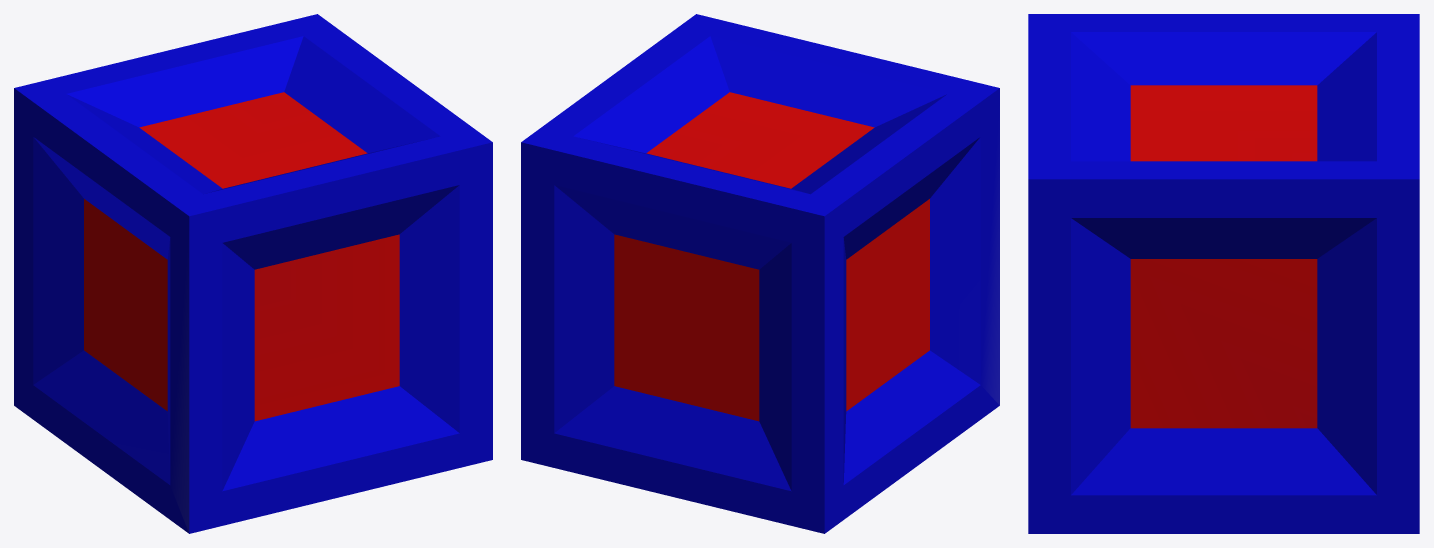
3 views of the same model, side by side, from view 1: azimuth 30°, elevation 25°; view 2: azimuth 150°, elevation 25°; view 3: azimuth 270°, elevation 25° (orthographic). The views are drawn at different scales.
Visible parts, largest first — view 1: Cube; view 2: Cube; view 3: Cube.
Part boxes in pixels (x1,y1,x2,y2): Cube: (14, 14, 492, 533); Cube: (521, 14, 999, 533); Cube: (1028, 14, 1419, 533).
Bounding box in the file's own units: 200 × 200 × 200.
